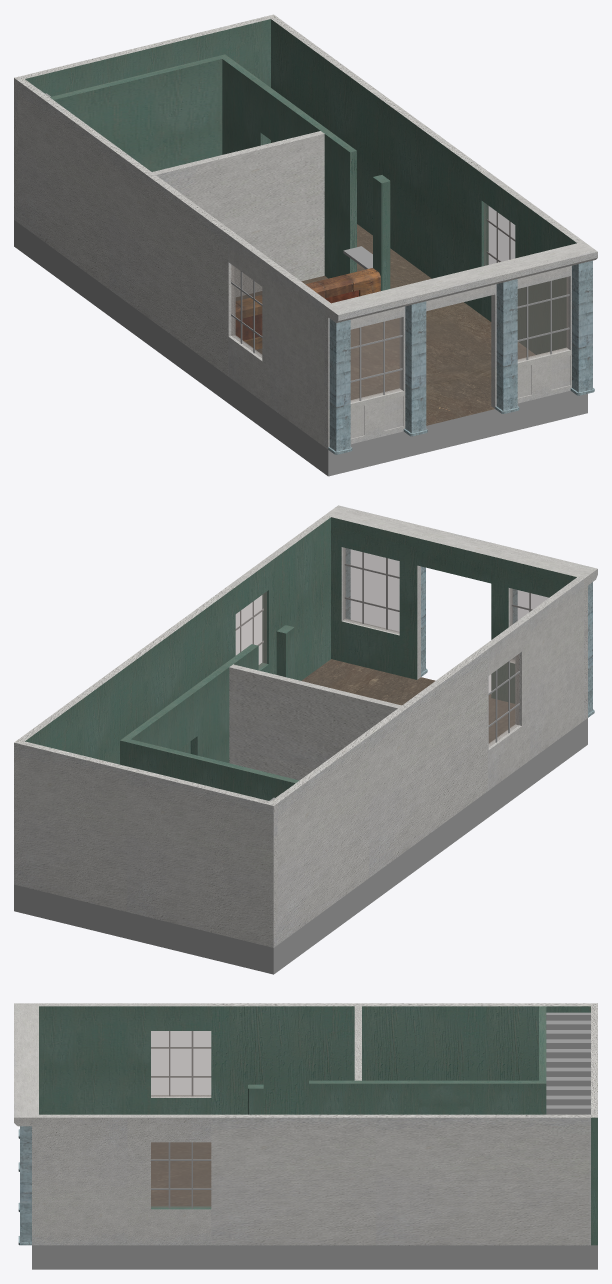
File: Old_Country_Bank.fbx
3 renders of one model, top to bottom at view 1: azimuth 30°, elevation 25°; view 2: azimuth 150°, elevation 25°; view 3: azimuth 270°, elevation 25°, orthographic. The views are drawn at different scales.
Parts seen in each view (by area): view 1: pCube50, pCube1, pCube44, pCube59, pCube63, pCube46, pCube65, pCube22, pCube35, pCube58, pCube4, pCube23 (+17 smaller); view 2: pCube65, pCube50, pCube1, pCube44, pCube59, pCube46, pCube35, pCube22, pCube63, pCube4, pCube2, pCube60 (+17 smaller); view 3: pCube44, pCube50, pCube1, pCube35, pCube46, polySurface4, pCube38, pCube22, pCube62, pCube37, pCube60, pCube58 (+21 smaller).
Part boxes in pixels (x1,y1,x2,y2): pCube50: [18, 79, 235, 376]; pCube1: [14, 220, 587, 476]; pCube44: [271, 17, 488, 314]; pCube59: [152, 131, 324, 296]; pCube63: [50, 56, 222, 171]; pCube46: [262, 258, 330, 446]; pCube65: [14, 14, 277, 222]; pCube22: [324, 241, 597, 323]; pCube35: [515, 196, 583, 354]; pCube58: [321, 129, 356, 278]; pCube4: [517, 277, 568, 361]; pCube23: [350, 317, 401, 402]; pCube65: [14, 740, 277, 947]; pCube50: [271, 647, 488, 944]; pCube1: [14, 659, 587, 974]; pCube44: [18, 585, 235, 764]; pCube59: [229, 664, 401, 780]; pCube46: [515, 577, 583, 765]; pCube35: [262, 515, 330, 680]; pCube22: [324, 505, 597, 587]; pCube63: [127, 739, 299, 800]; pCube4: [343, 547, 399, 633]; pCube2: [331, 618, 420, 679]; pCube60: [190, 665, 229, 762]; pCube44: [211, 1114, 590, 1245]; pCube50: [211, 1003, 590, 1114]; pCube1: [32, 1142, 597, 1269]; pCube35: [39, 1114, 150, 1245]; pCube46: [39, 1003, 150, 1114]; polySurface4: [151, 1031, 211, 1096]; pCube38: [151, 1142, 211, 1207]; pCube22: [14, 1003, 38, 1126]; pCube62: [470, 1080, 546, 1114]; pCube37: [151, 1206, 211, 1245]; pCube60: [362, 1080, 418, 1114]; pCube58: [309, 1080, 361, 1114].
Bounding box in the file's own units: 5.98 × 3.71 × 12.93.
Materials: 8 (6 with a texture image).
